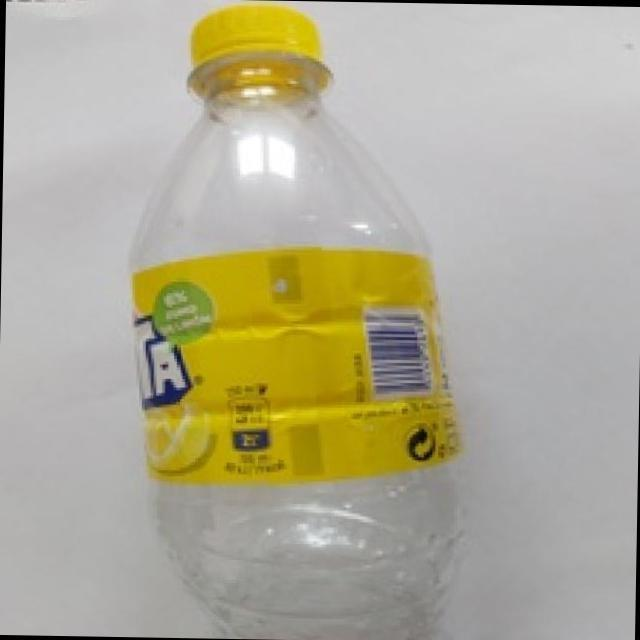good: (116, 0, 461, 640)
